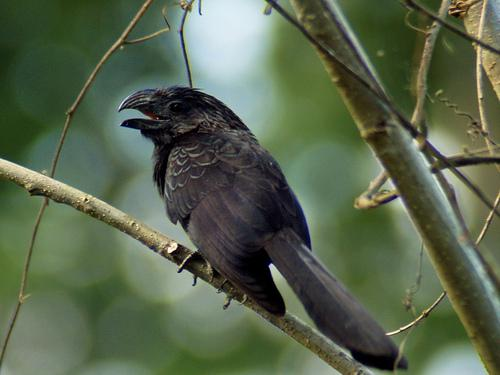004.Groove_billed_Ani: (118, 86, 408, 372)
